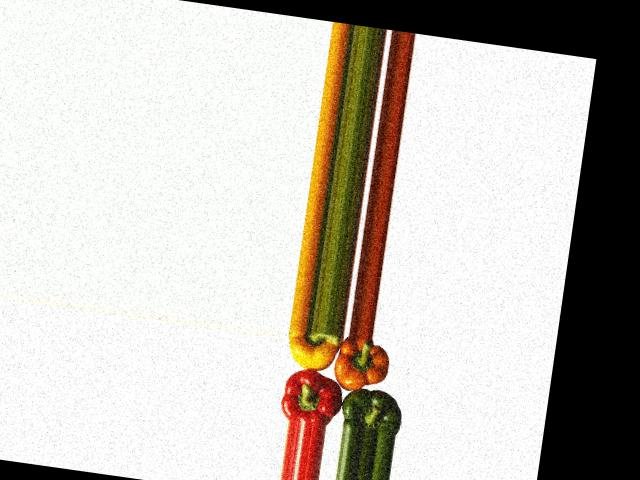bell_pepper: (282, 327, 346, 376)
